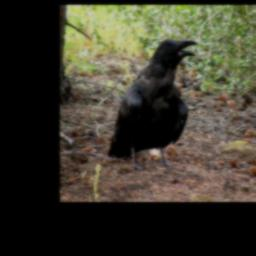Crow: (106, 38, 198, 173)
